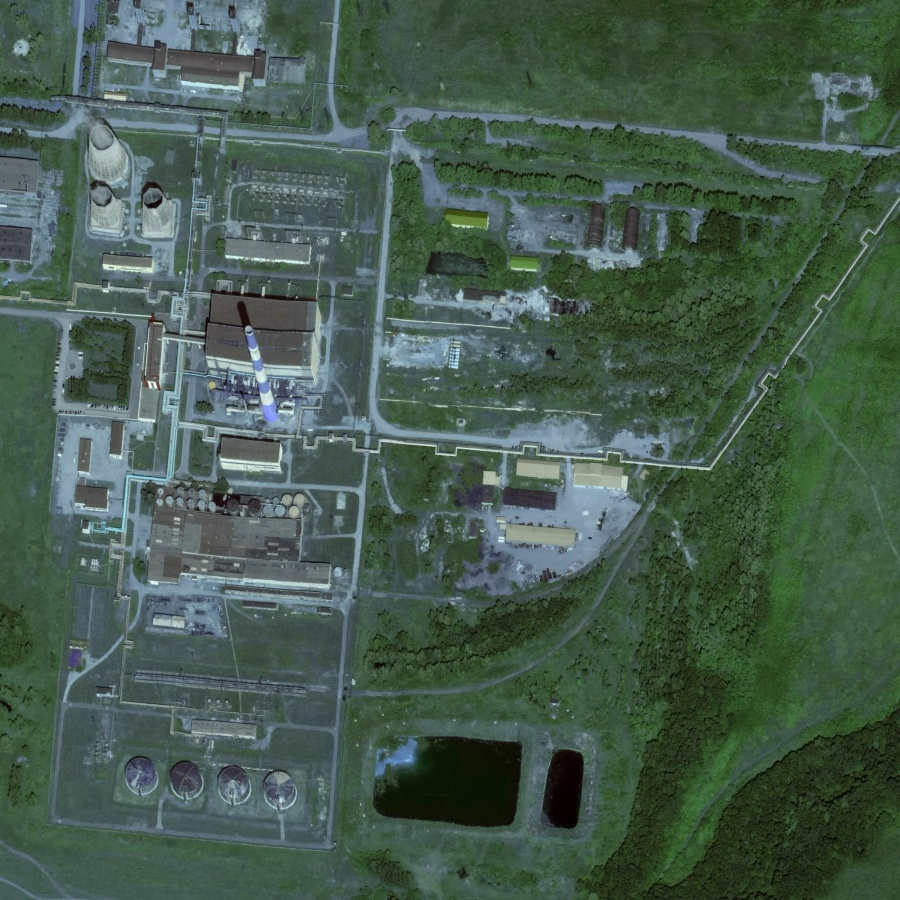PowerPlant: (59, 114, 352, 473), (118, 705, 328, 871), (363, 722, 597, 849)
